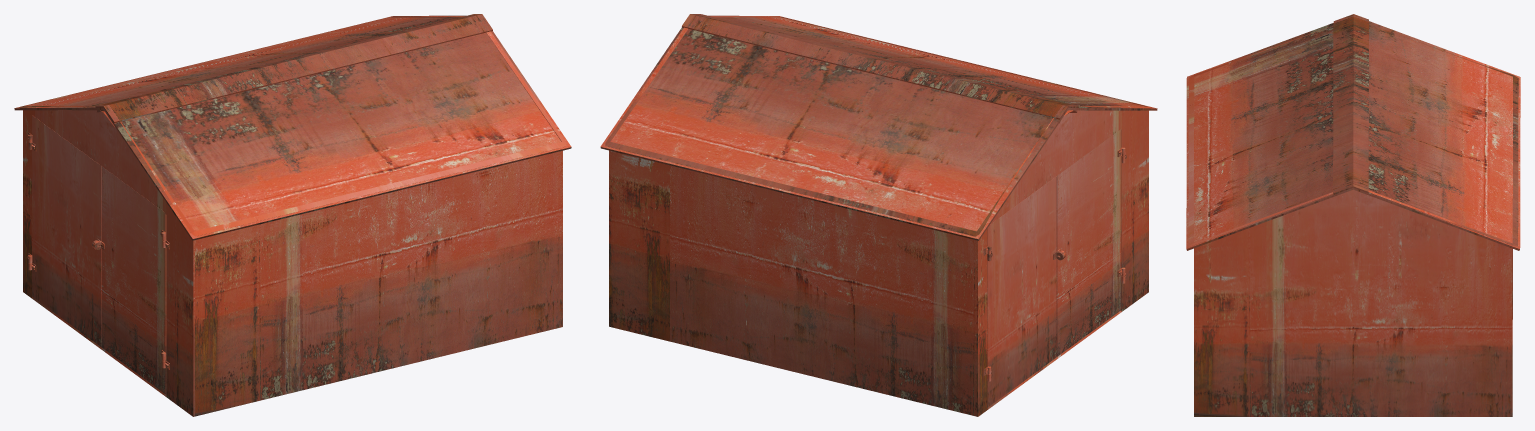
File: Garazh_met_3.fbx
3 renders of one model, left to right at view 1: azimuth 30°, elevation 25°; view 2: azimuth 150°, elevation 25°; view 3: azimuth 270°, elevation 25°, orthographic. The views are drawn at different scales.
Visible parts, largest first — view 1: Plane.004, Cube.012, Cube.015; view 2: Plane.004, Cube.012, Cube.015; view 3: Plane.004.
Boxes of the visible parts, x1,y1,x2,y2 form: Plane.004: (14, 14, 571, 416); Cube.012: (28, 115, 101, 346); Cube.015: (93, 166, 166, 394); Plane.004: (600, 14, 1157, 416); Cube.012: (987, 176, 1064, 407); Cube.015: (1056, 129, 1125, 356); Plane.004: (1186, 14, 1520, 416).
Size of the model in its own units: 258 by 161 by 210.
